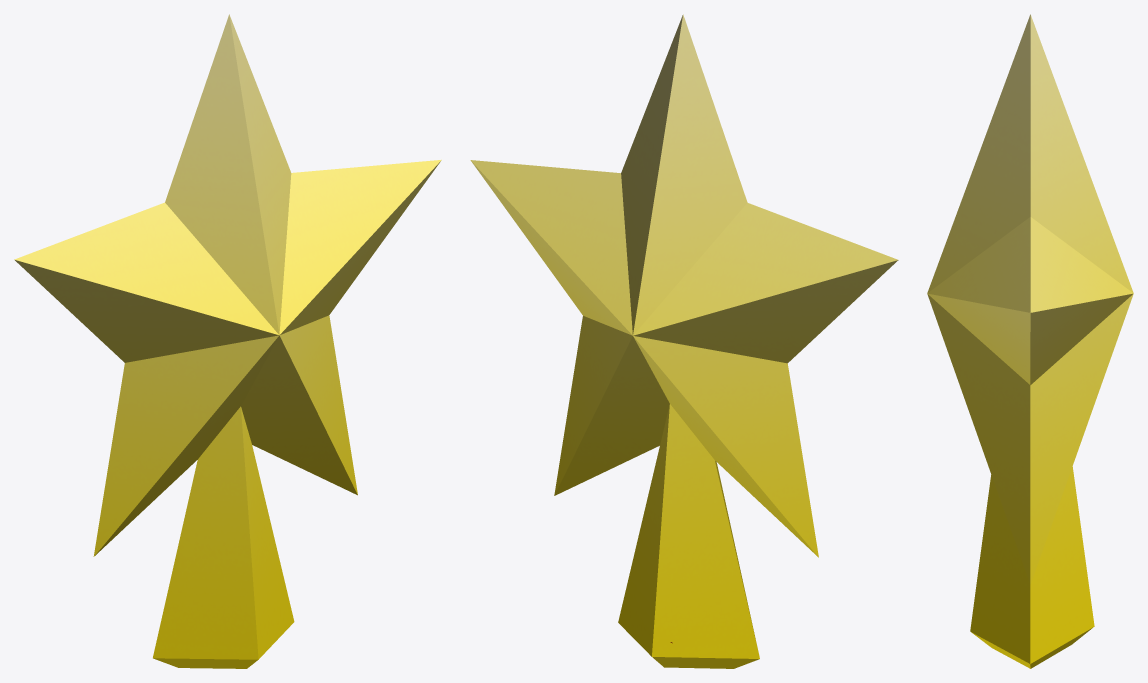
The model's file is XMas-star.glb.
The picture shows the model from 3 angles, left to right: view 1: azimuth 30°, elevation 25°; view 2: azimuth 150°, elevation 25°; view 3: azimuth 270°, elevation 25°; orthographic projection.
Parts seen in each view (by area): view 1: Christmas_Tree_Christmas_Tree_0; view 2: Christmas_Tree_Christmas_Tree_0; view 3: Christmas_Tree_Christmas_Tree_0.
Boxes of the visible parts, box(x1,y1,x2,y2) form: Christmas_Tree_Christmas_Tree_0: box(14, 14, 441, 668); Christmas_Tree_Christmas_Tree_0: box(470, 14, 898, 668); Christmas_Tree_Christmas_Tree_0: box(927, 14, 1133, 668).
Bounding box in the file's own units: 68.42 × 98.05 × 28.86.
Materials: 1 (1 with a texture image).
